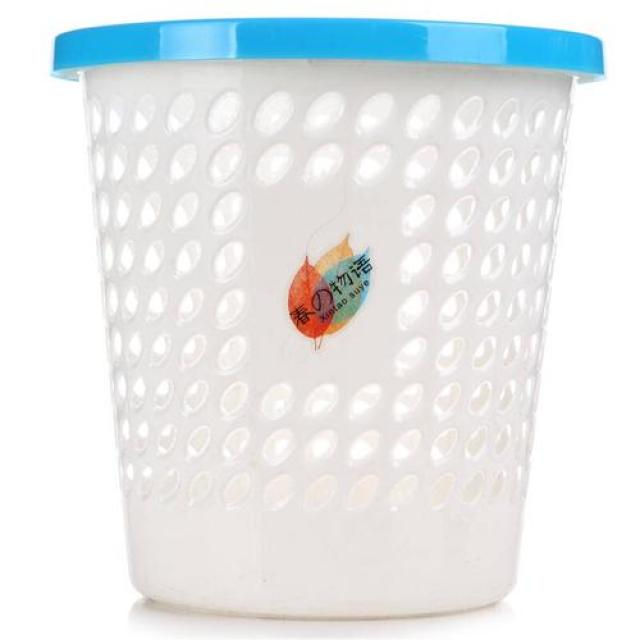dustbin: (44, 13, 617, 626)
